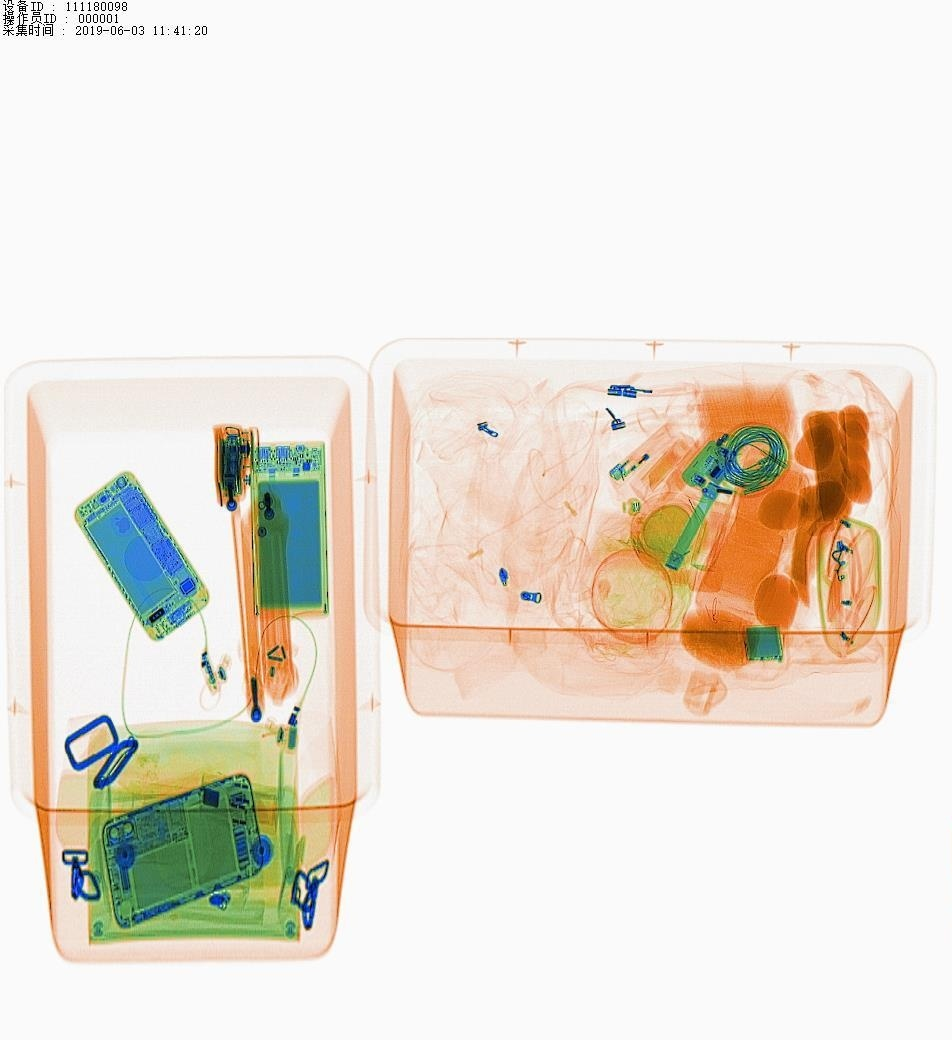NonmetallicFire: (607, 408, 686, 501)
